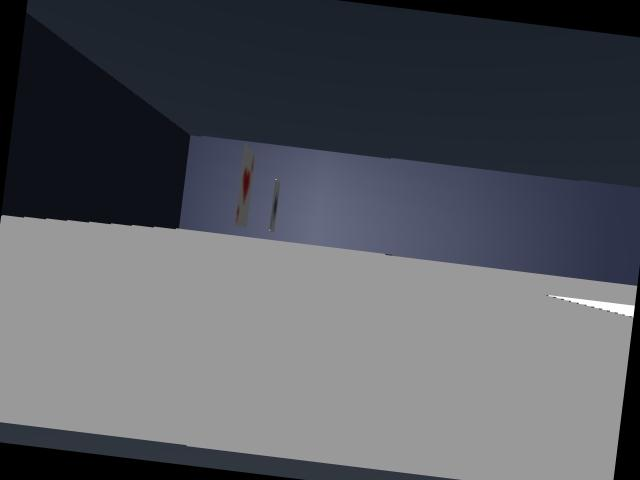heart: (235, 145, 254, 226)
